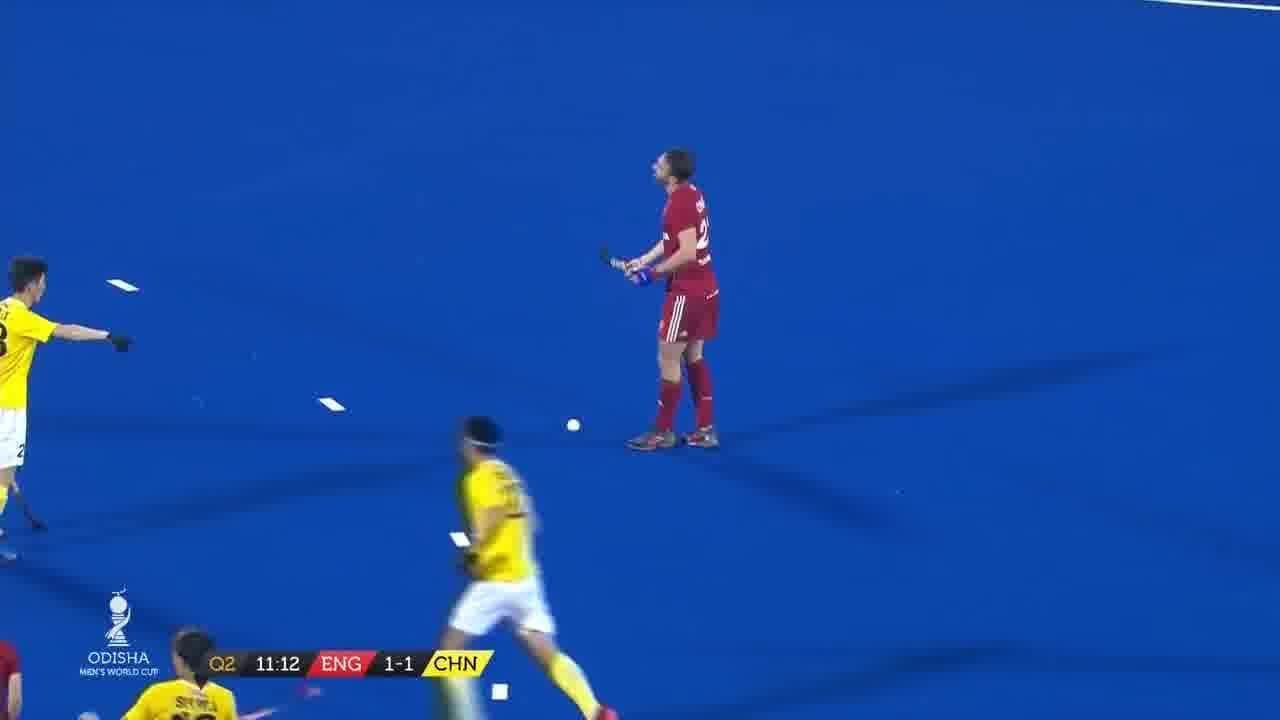ball: (568, 418, 586, 440)
